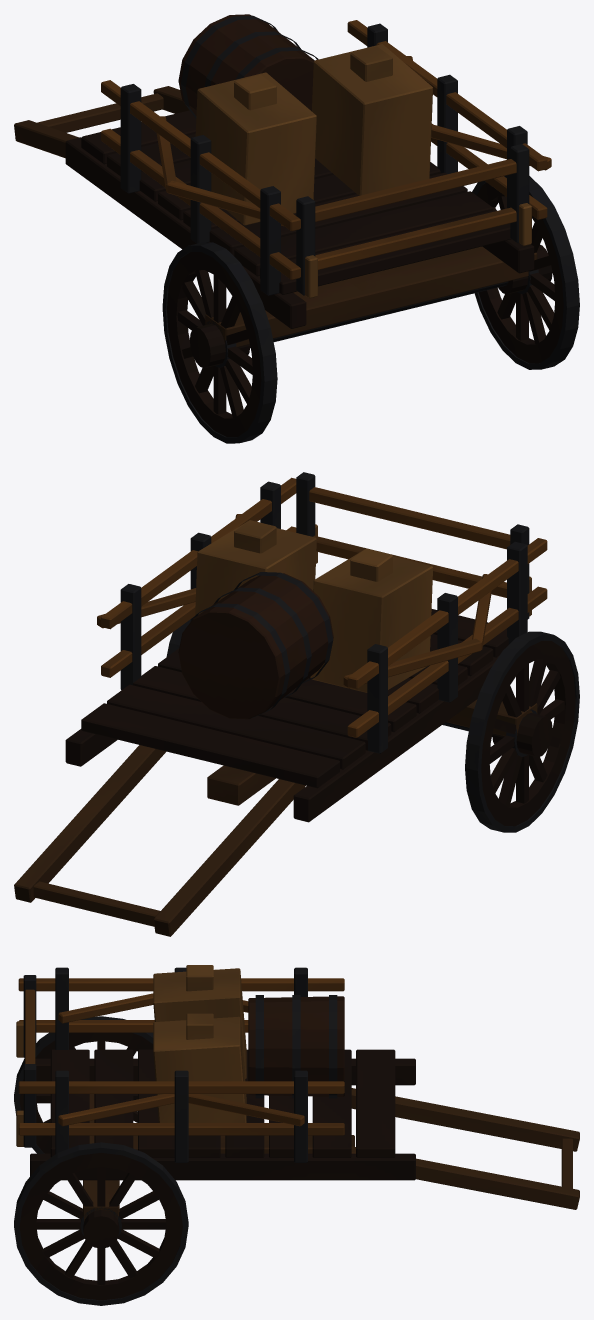
The model's file is supply_cart.glb.
3 renders of one model, top to bottom at view 1: azimuth 30°, elevation 25°; view 2: azimuth 150°, elevation 25°; view 3: azimuth 270°, elevation 25°, orthographic. The views are drawn at different scales.
Parts seen in each view (by area): view 1: SupplyCartBody, TwelveSpokeWheelAssembly; view 2: SupplyCartBody, TwelveSpokeWheelAssembly; view 3: SupplyCartBody, TwelveSpokeWheelAssembly.
Part boxes in pixels (x1,y1,x2,y2): SupplyCartBody: [14, 14, 551, 347]; TwelveSpokeWheelAssembly: [162, 175, 579, 443]; SupplyCartBody: [14, 472, 547, 936]; TwelveSpokeWheelAssembly: [166, 619, 579, 832]; SupplyCartBody: [16, 965, 579, 1221]; TwelveSpokeWheelAssembly: [14, 1016, 188, 1305].
Size of the model in its own units: 1.47 by 1.18 by 2.46.
Materials: 6 (6 with a texture image).
